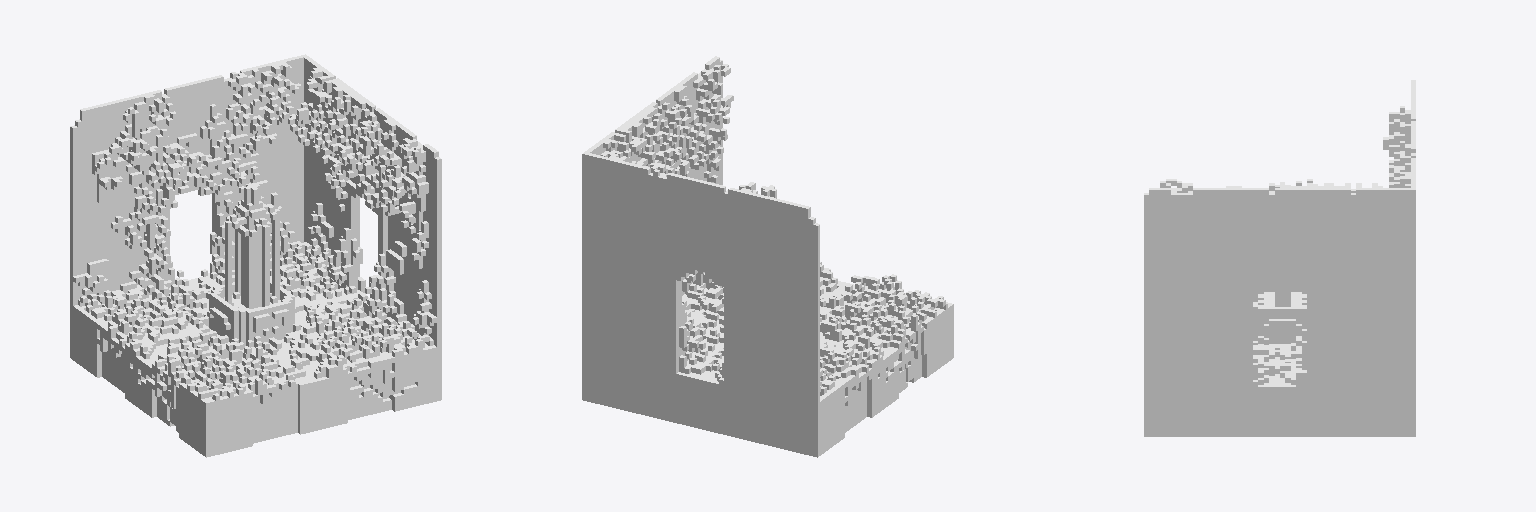
The model's file is Garden.obj.
3 renders of one model, left to right at view 1: azimuth 30°, elevation 25°; view 2: azimuth 150°, elevation 25°; view 3: azimuth 270°, elevation 25°, orthographic.
Visible parts, largest first — view 1: Garden; view 2: Garden; view 3: Garden.
Boxes of the visible parts, x1=… form: Garden: x1=70, y1=54, x2=441, y2=457; Garden: x1=582, y1=56, x2=953, y2=457; Garden: x1=1144, y1=80, x2=1415, y2=436.
Size of the model in its own units: 5 by 5 by 5.